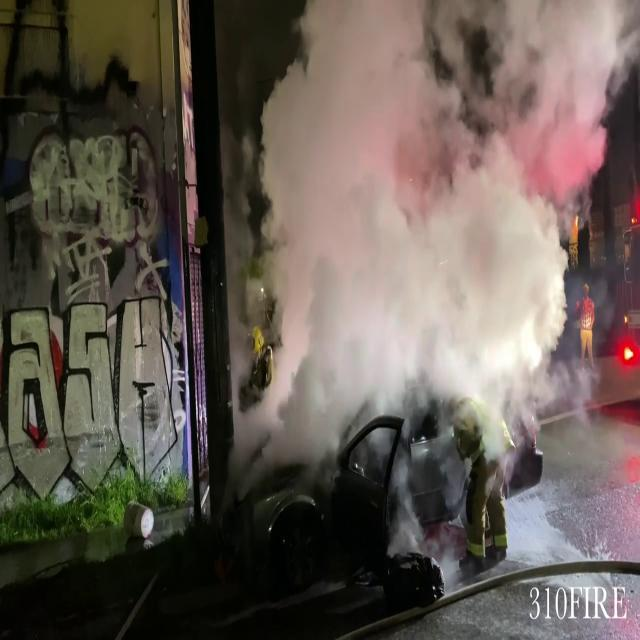Smoke: (245, 0, 569, 442)
